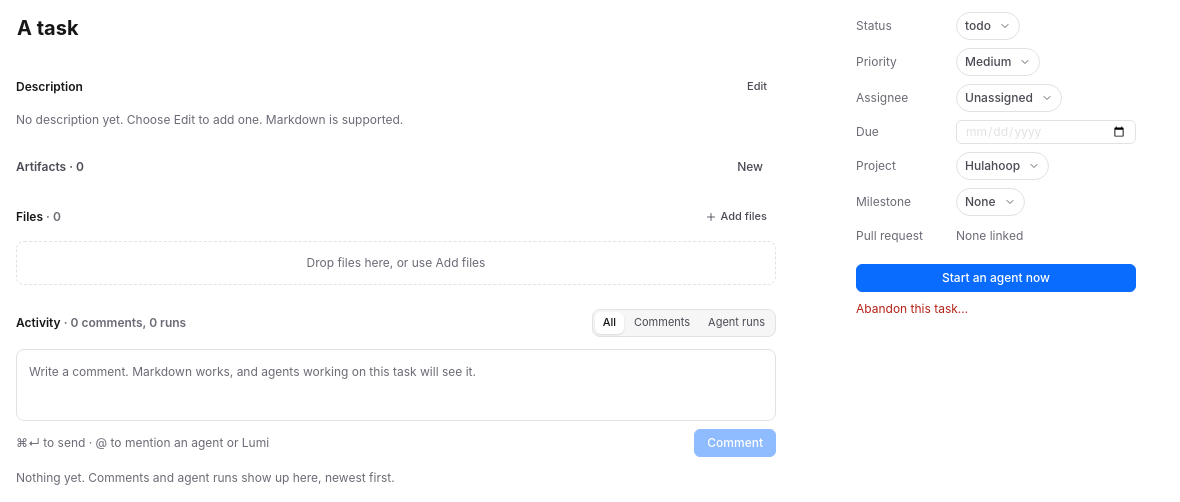
Scenario: IssueDetail properties use the shared dropdown › opens Priority as a popover with a check on the current value and saves the pick
Later steps or results of the test are not shown.
Click the button with aria-label "Priority" at (998, 62), box [956,48,1040,76]
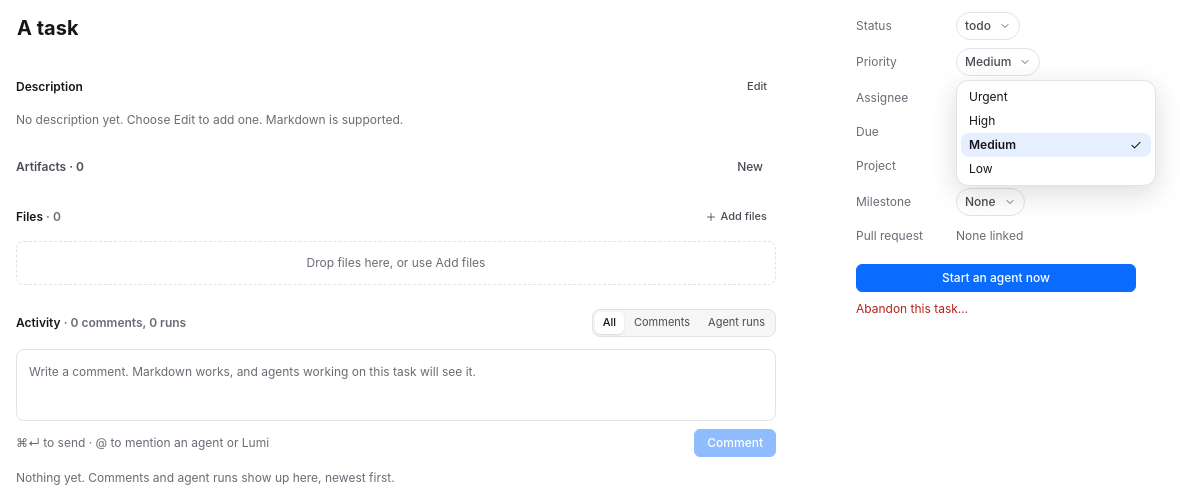
Expected: the element with class "sel-pop" is shown, [956,80,1156,186]
Expected: the option "Medium" is shown, [961,133,1151,157]
